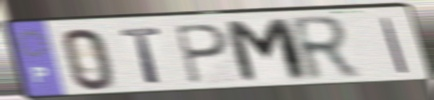0: (60, 26, 117, 93)
I: (378, 16, 411, 75)
M: (221, 16, 314, 87)
P: (171, 23, 232, 87)
R: (286, 13, 364, 85)
T: (117, 25, 165, 87)
